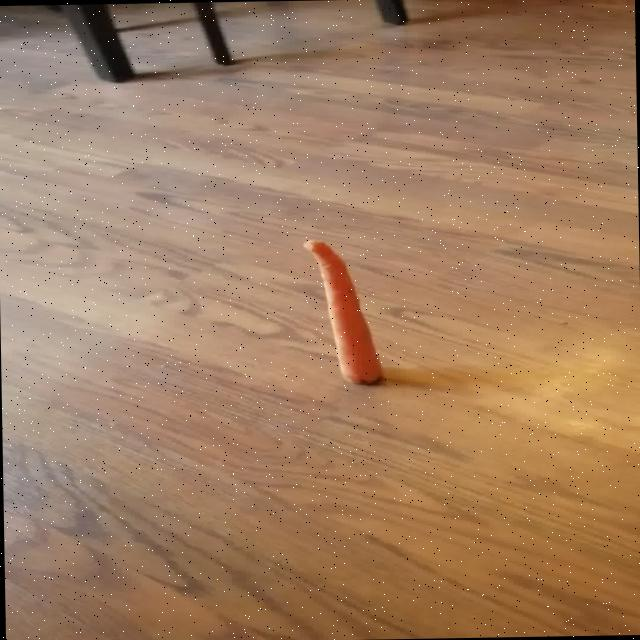carrot: (303, 240, 381, 383)
